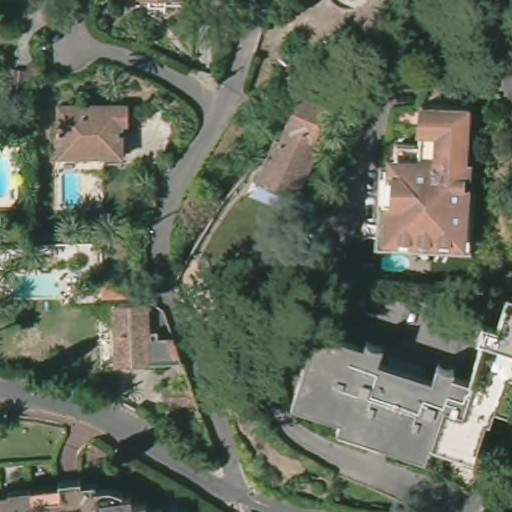pool: (5, 268, 78, 300), (58, 169, 88, 210), (1, 153, 18, 203), (378, 253, 414, 270)
